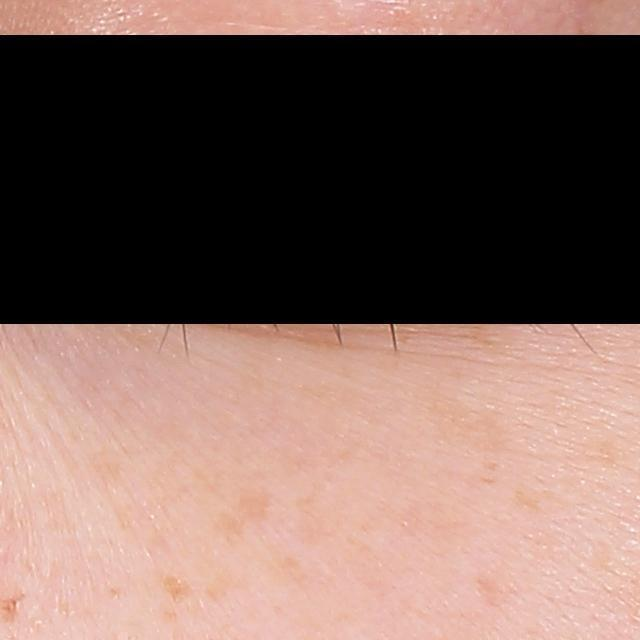melasma: (229, 484, 275, 535), (508, 482, 570, 515), (264, 546, 311, 589), (472, 568, 514, 611), (202, 562, 246, 599), (156, 568, 197, 604)
